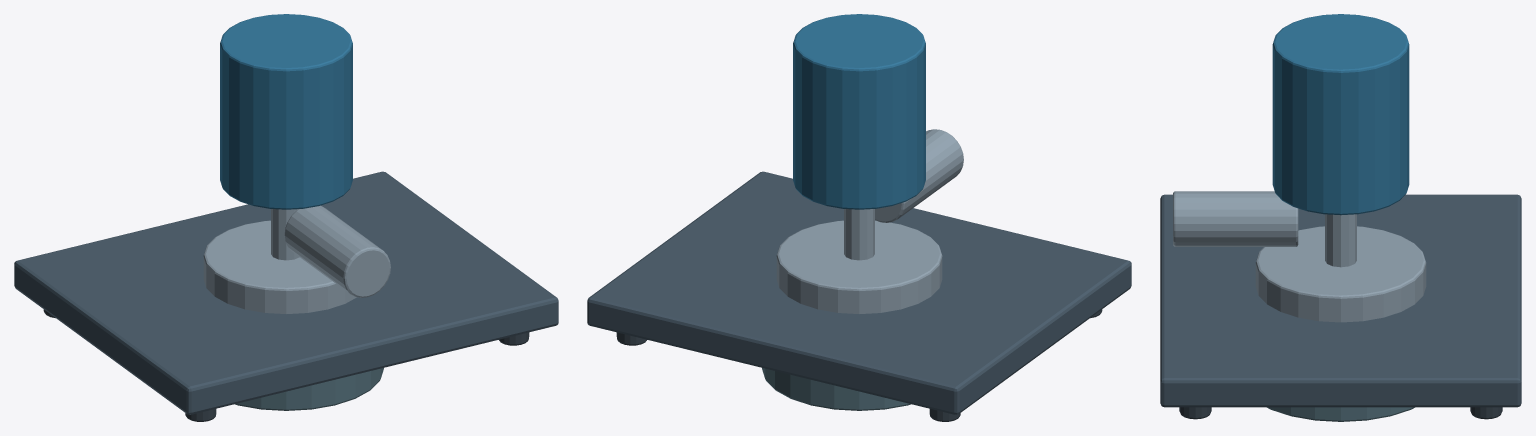
File: leachate-pump-lod1.glb
The picture shows the model from 3 angles, left to right: view 1: azimuth 30°, elevation 25°; view 2: azimuth 150°, elevation 25°; view 3: azimuth 270°, elevation 25°; orthographic projection. The views are drawn at different scales.
Parts seen in each view (by area): view 1: drive_base, leachate_motor, leachate_impeller_housing, leachate_inlet, leachate_intake_cage, leachate_shaft; view 2: drive_base, leachate_motor, leachate_impeller_housing, leachate_intake_cage, leachate_inlet, leachate_shaft; view 3: drive_base, leachate_motor, leachate_impeller_housing, leachate_inlet, leachate_shaft, leachate_intake_cage, base_mount_1.85_1.4500000000000002, base_mount_1.85_-1.4500000000000002.
Part boxes in pixels (x1,y1,x2,y2): drive_base: (14,171,558,414); leachate_motor: (220,14,352,209); leachate_impeller_housing: (203,220,356,313); leachate_inlet: (284,205,390,297); leachate_intake_cage: (235,368,383,410); leachate_shaft: (271,209,299,260); drive_base: (587,171,1131,414); leachate_motor: (793,14,925,209); leachate_impeller_housing: (776,220,942,313); leachate_intake_cage: (762,368,910,410); leachate_inlet: (875,129,963,222); leachate_shaft: (844,209,874,260); drive_base: (1160,194,1521,407); leachate_motor: (1272,14,1409,215); leachate_impeller_housing: (1255,226,1426,322); leachate_inlet: (1173,191,1298,246); leachate_shaft: (1325,214,1356,267); leachate_intake_cage: (1267,407,1414,421); base_mount_1.85_1.4500000000000002: (1470,407,1502,419); base_mount_1.85_-1.4500000000000002: (1179,407,1211,419).
Size of the model in its own units: 4.4 by 3.73 by 3.6.
